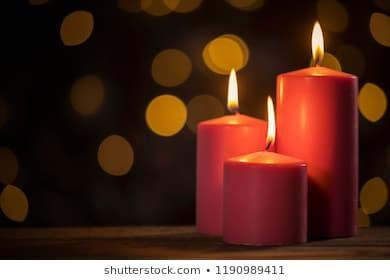fire: (306, 20, 325, 65), (225, 66, 241, 110), (265, 92, 278, 145)
